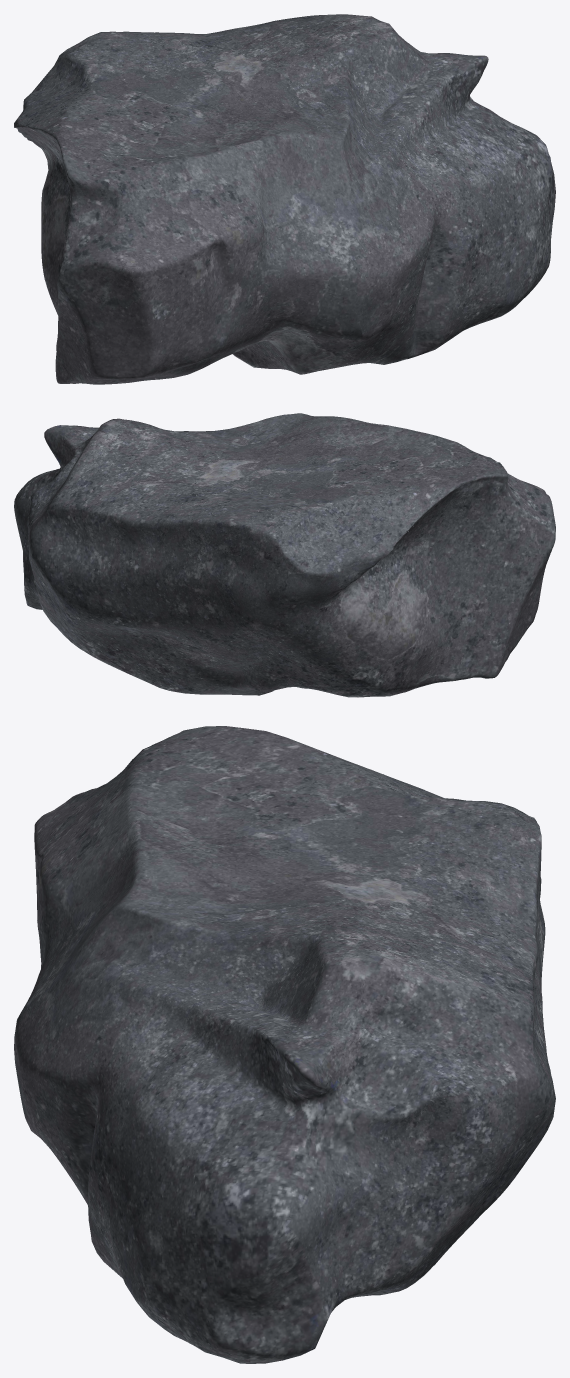
File: rock_7.glb
3 renders of one model, top to bottom at view 1: azimuth 30°, elevation 25°; view 2: azimuth 150°, elevation 25°; view 3: azimuth 270°, elevation 25°, orthographic. The views are drawn at different scales.
Visible parts, largest first — view 1: R7_MD; view 2: R7_MD; view 3: R7_MD.
Boxes of the visible parts, x1,y1,x2,y2 form: R7_MD: (14, 14, 555, 384); R7_MD: (14, 413, 555, 697); R7_MD: (14, 726, 555, 1363).
Bounding box in the file's own units: 0.4668 × 0.2354 × 0.3008.
1 material, 1 textured.
